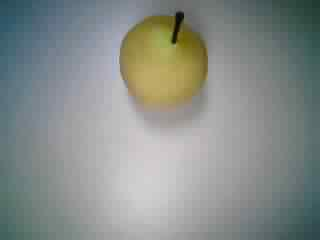pear: (108, 5, 218, 116)
